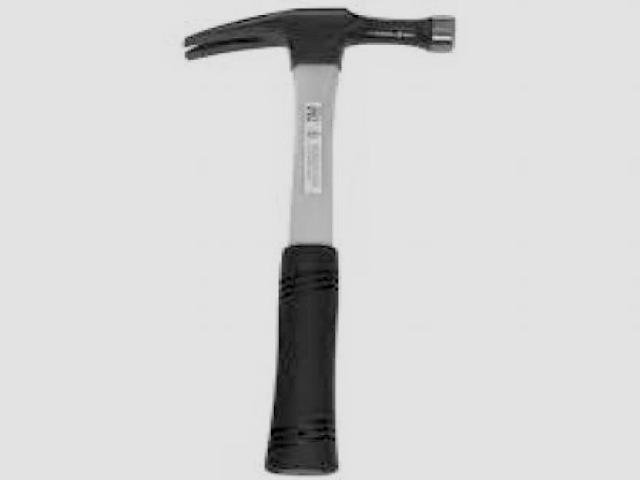Hammer: (185, 8, 455, 474)
